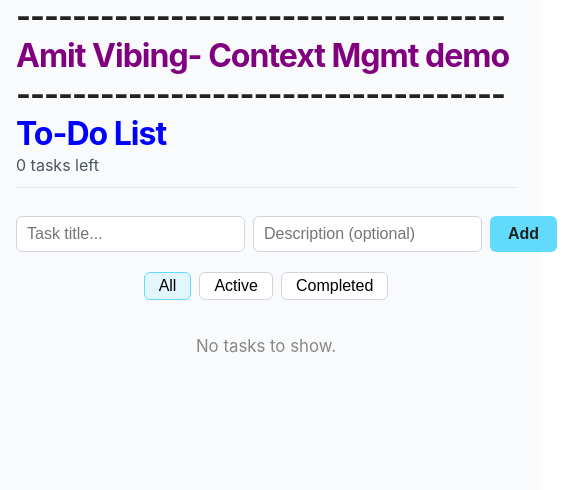
it: App Component › Filtering Tasks › shows only active tasks when "Active" filter is selected
Type "Active task 1" into the field with placeholder "Task title..." at {"x": 130, "y": 234}, box [16,216,245,252]
Click the button "Add" at {"x": 524, "y": 234}, box [490,216,557,252]
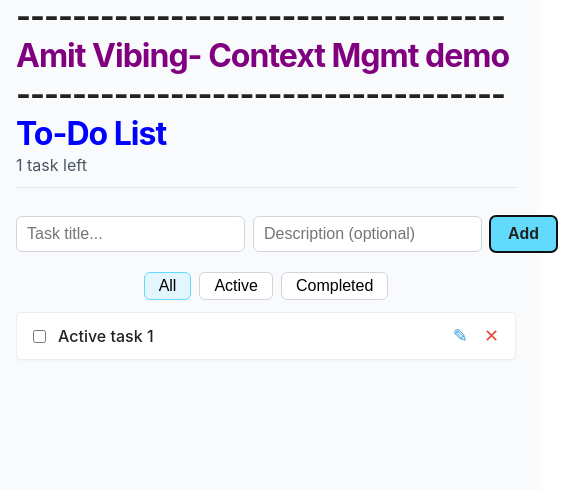
Type "Active task 2" into the field with placeholder "Task title..." at {"x": 130, "y": 234}, box [16,216,245,252]
Click the button "Add" at {"x": 524, "y": 234}, box [490,216,557,252]
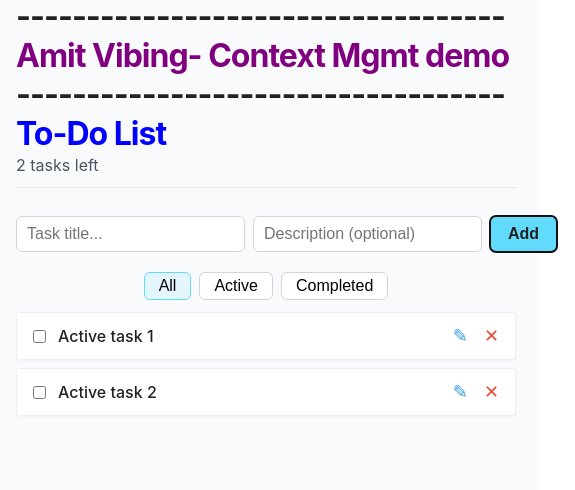
Type "Completed task" into the field with placeholder "Task title..." at {"x": 130, "y": 234}, box [16,216,245,252]
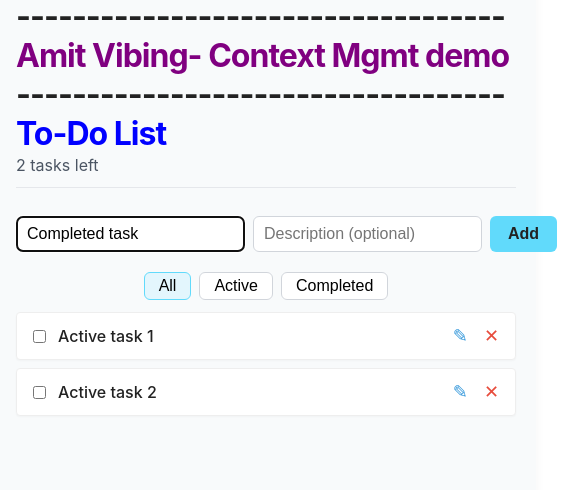
Click the button "Add" at {"x": 524, "y": 234}, box [490,216,557,252]
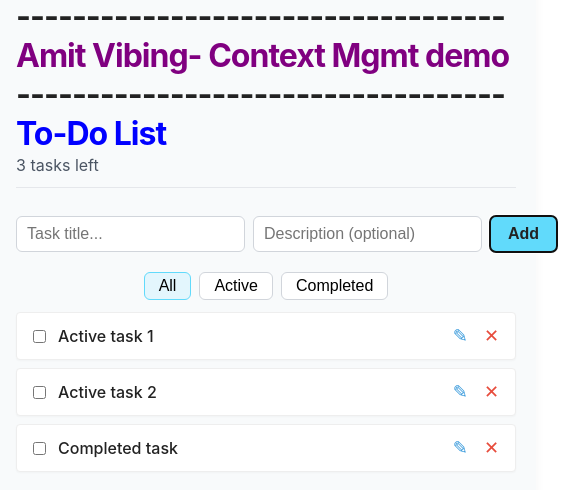
Click the checkbox named "Mark as complete" next to "Completed task" at {"x": 40, "y": 448}, box [33,442,46,454]
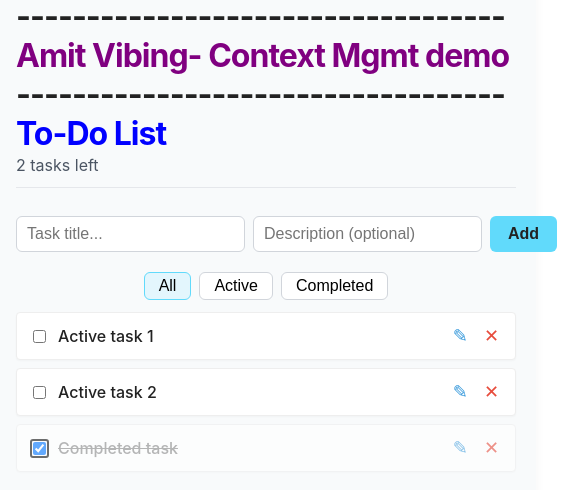
Click the button "Active" at {"x": 236, "y": 286}, box [199,272,273,300]
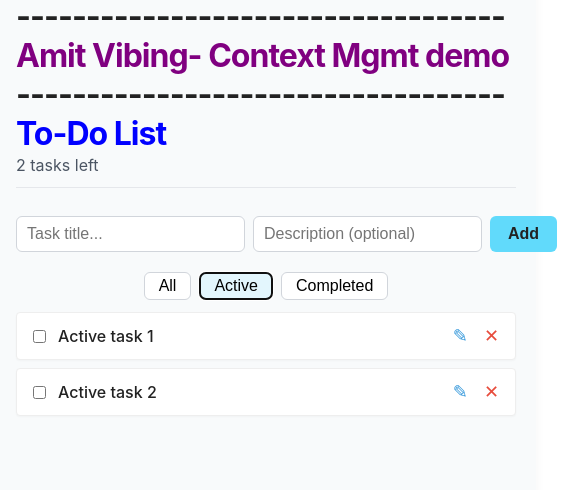
Now the text "Active task 1" is shown, box [58,326,154,346]
Now the text "Active task 2" is shown, box [58,382,157,402]
Now the text "Completed task" is gone
